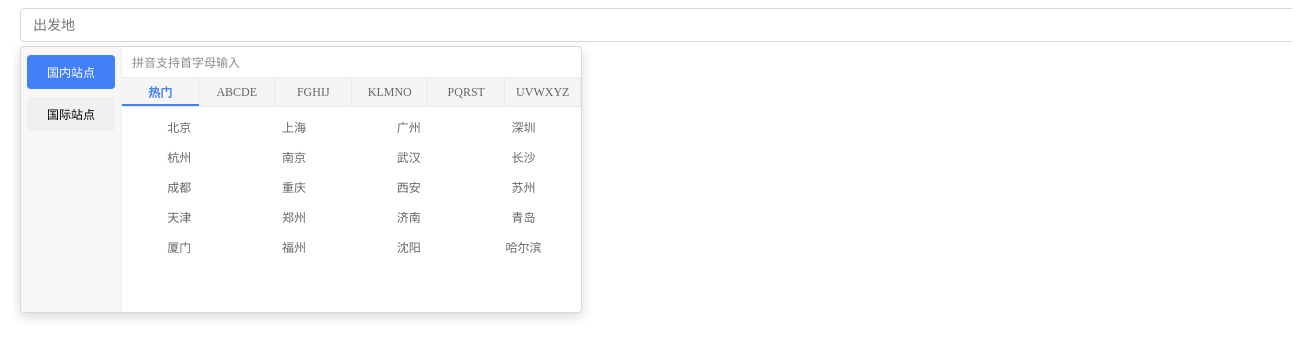
Given 当前选中“国内站点” When 点击“国际站点” Then 右侧更新为国际站点筛选内容
The width and height of the screenshot is (1304, 337).
Click the field with placeholder "出发地".
click(656, 25)  # box [20,8,1292,42]
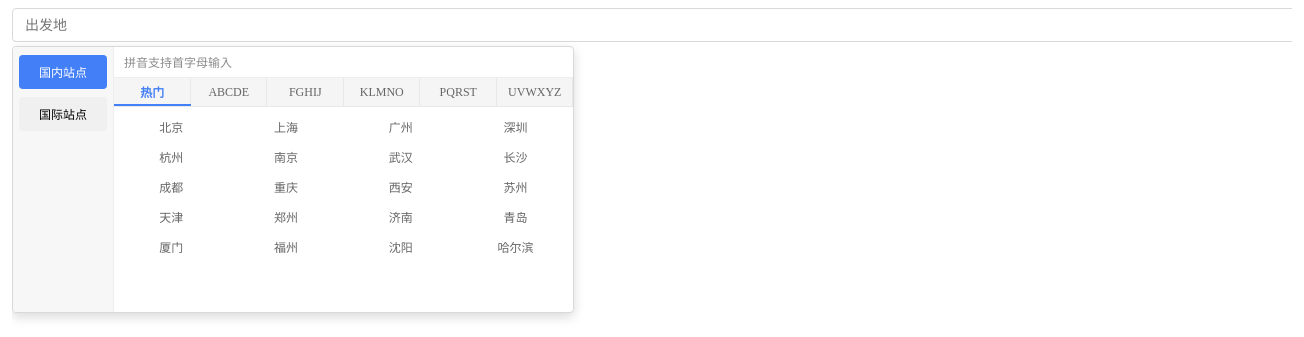
Click the text "国际站点".
click(63, 114)  # box [19,97,107,131]
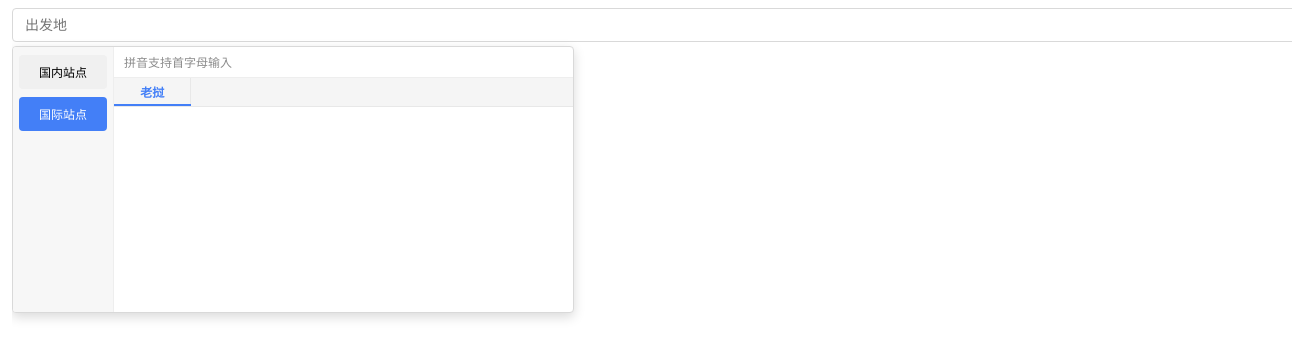
Expected: the text "老挝" is shown, [114,78,190,106]
